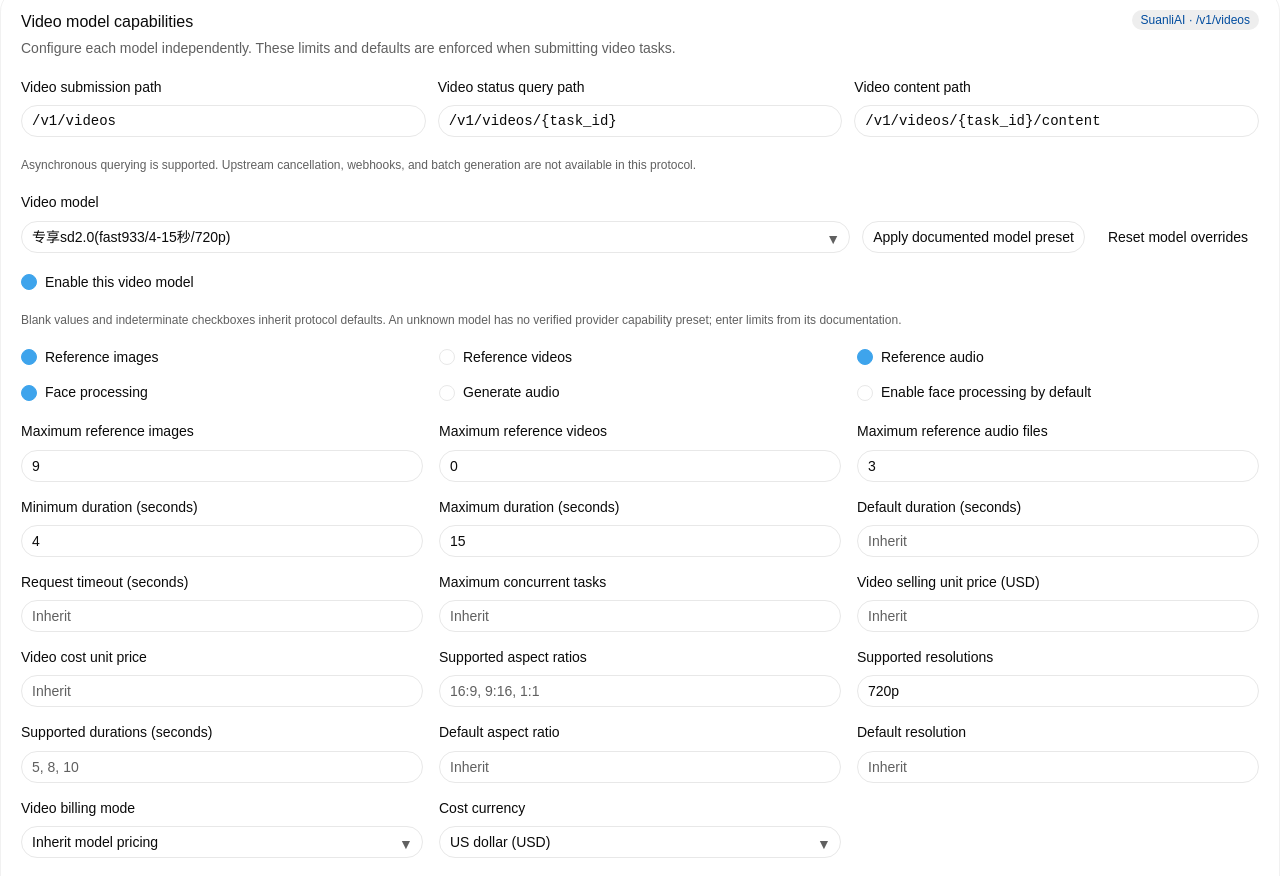
Scenario: an incompatible default duration displays a validation error before channel submission
The width and height of the screenshot is (1280, 876).
Type "30" into the number field labelled "Default duration (seconds)" at [1058, 541], box [857,525,1259,557]
(page scrolled)
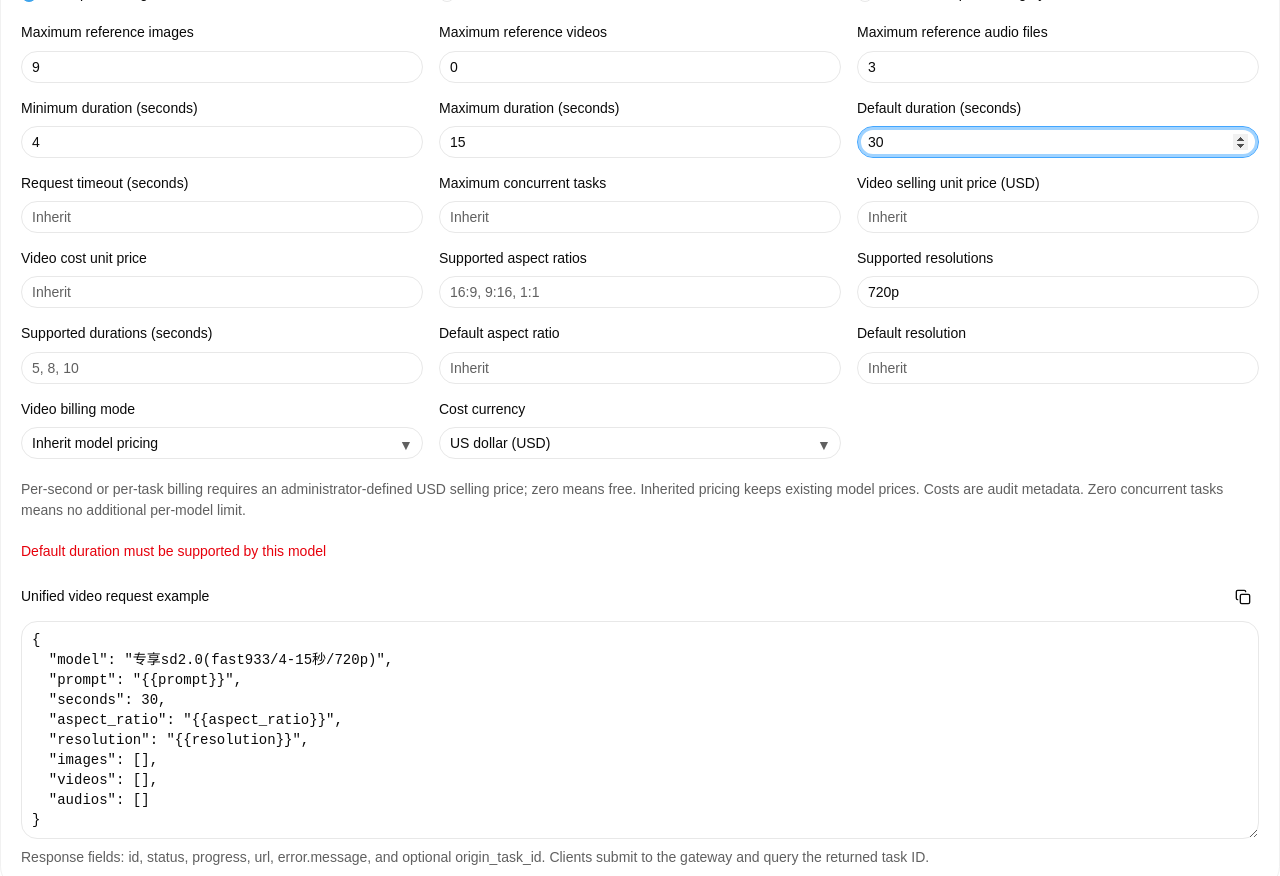
Now the message reads "Default duration must be supported by this model", box [21,543,326,559]
